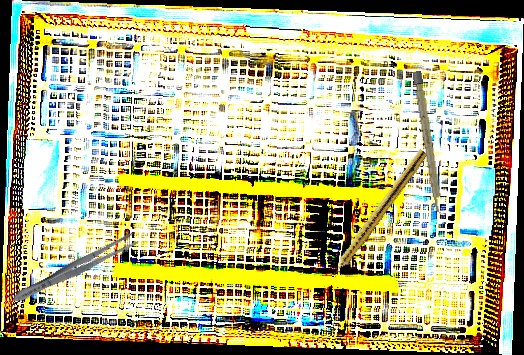Dressing Forceps: (8, 229, 141, 308)
Handpiece: (325, 146, 429, 282)
Scalpel Handle: (412, 70, 444, 215)
